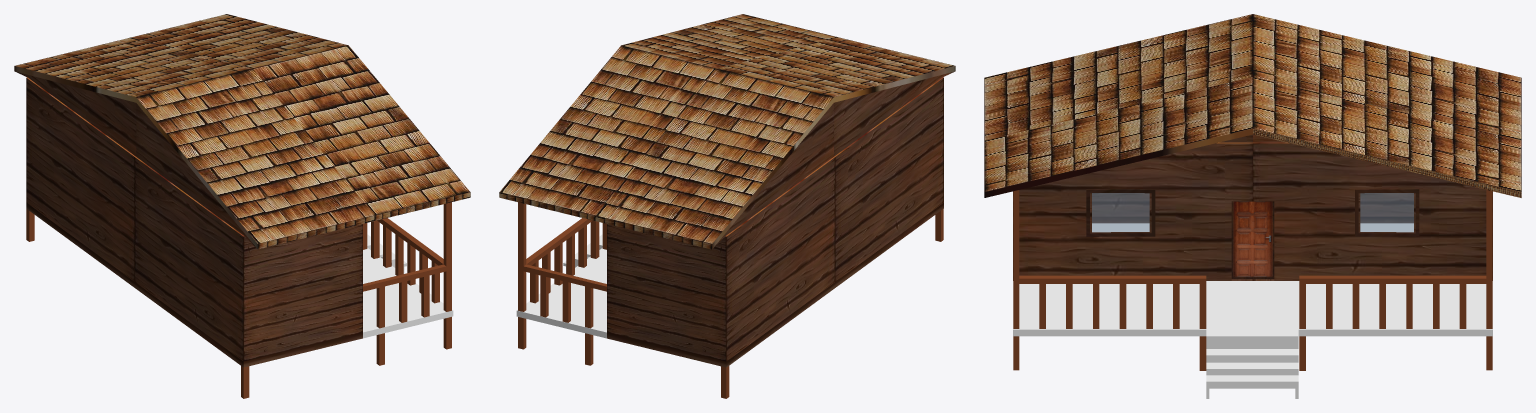
Rendered from cabin_exterior.glb.
The picture shows the model from 3 angles, left to right: view 1: azimuth 30°, elevation 25°; view 2: azimuth 150°, elevation 25°; view 3: azimuth 270°, elevation 25°; orthographic projection. The views are drawn at different scales.
Visible parts, largest first — view 1: Techo, Paredes, Baranda, Cabaña, Superior; view 2: Techo, Paredes, Baranda, Cabaña, Superior; view 3: Techo, Cabaña, Pared2, Pared1, Baranda, Vidrio ventana, Paredes, Puerta, Marcos.
Part boxes in pixels (x1,y1,x2,y2): Techo: (14,14,470,249); Paredes: (15,71,362,367); Baranda: (26,202,451,398); Cabaña: (363,234,453,338); Superior: (26,77,244,236); Techo: (499,14,955,249); Paredes: (607,71,954,367); Baranda: (518,202,943,398); Cabaña: (516,234,606,338); Superior: (725,77,943,236); Techo: (984,14,1521,197); Cabaña: (1013,223,1492,398); Pared2: (1253,143,1492,280); Pared1: (1013,143,1252,280); Baranda: (1013,190,1492,370); Vidrio ventana: (1092,193,1413,232); Paredes: (1092,134,1413,280); Puerta: (1233,201,1272,276); Marcos: (1086,189,1419,279).
Size of the model in its own units: 10.51 by 9.14 by 17.66.
7 materials, 5 textured.
